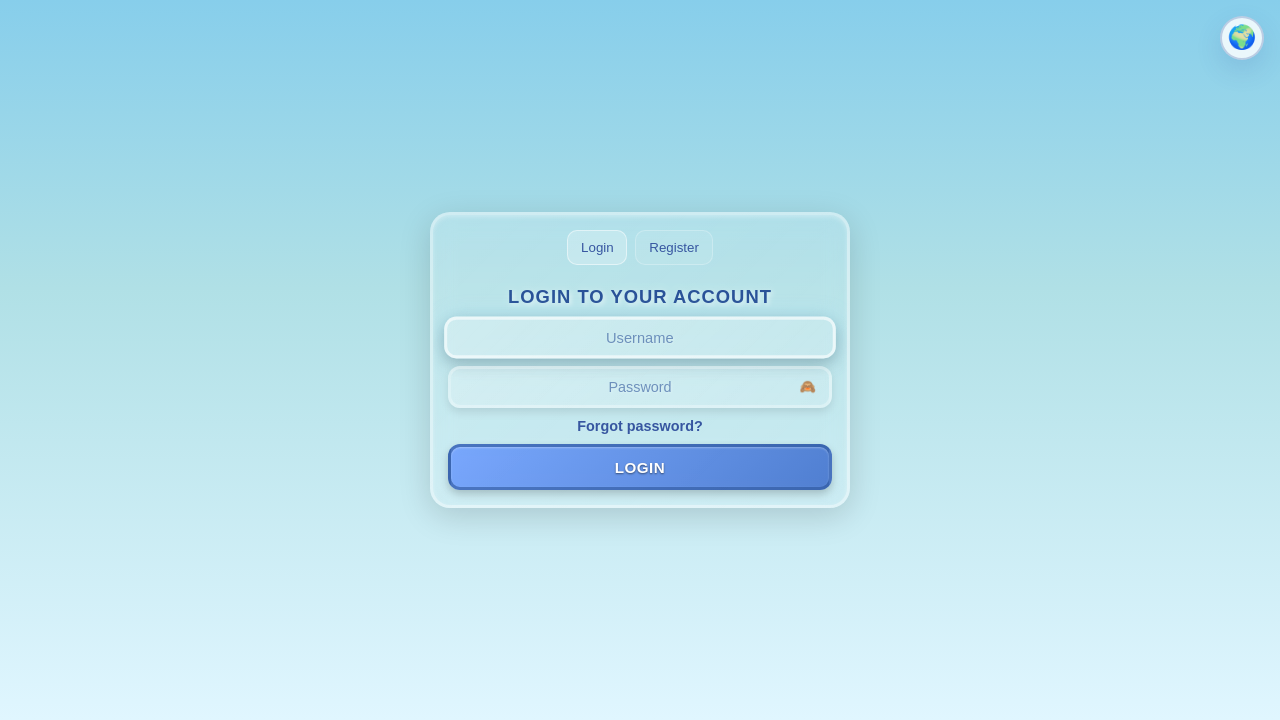
Test case: Index main page › translates the login page when language is changed before signing in
Expected: the heading "Login to Your Account" is shown, [508,286,772,308]
Click the button named "language" at (1242, 38), box [1220,16,1264,60]
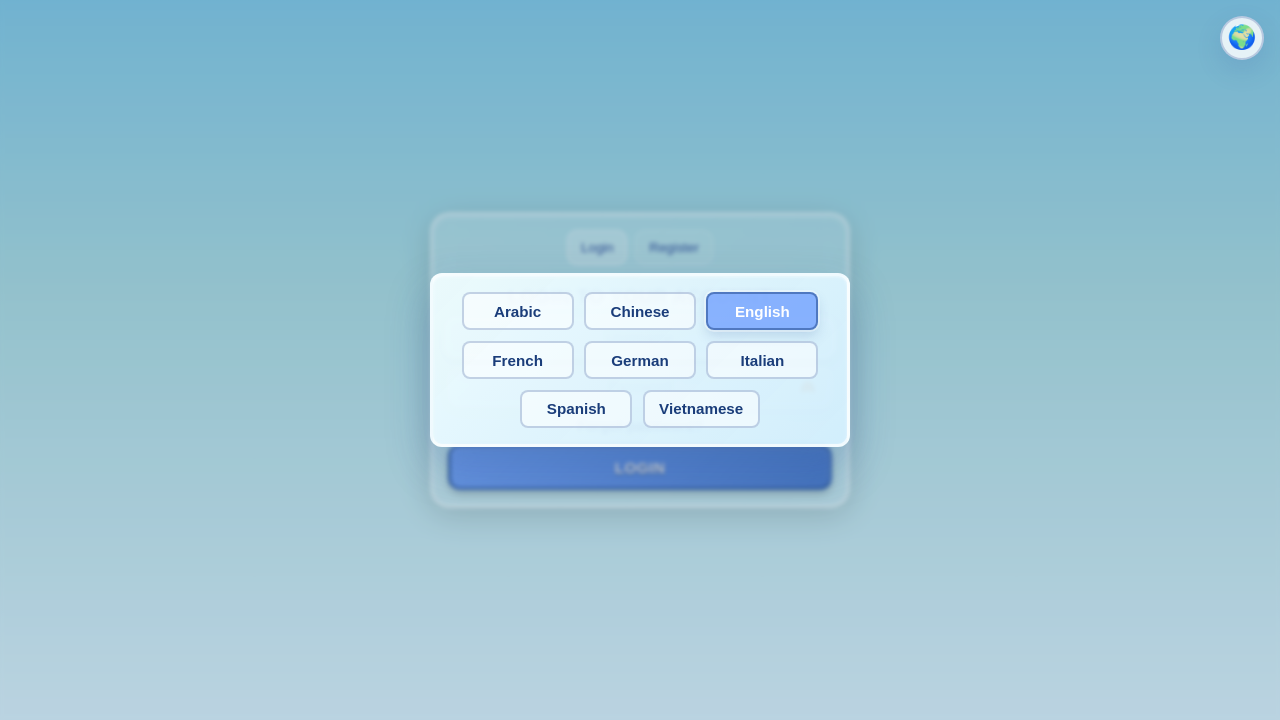
Click the button "French" at (518, 360), box [462,341,574,379]
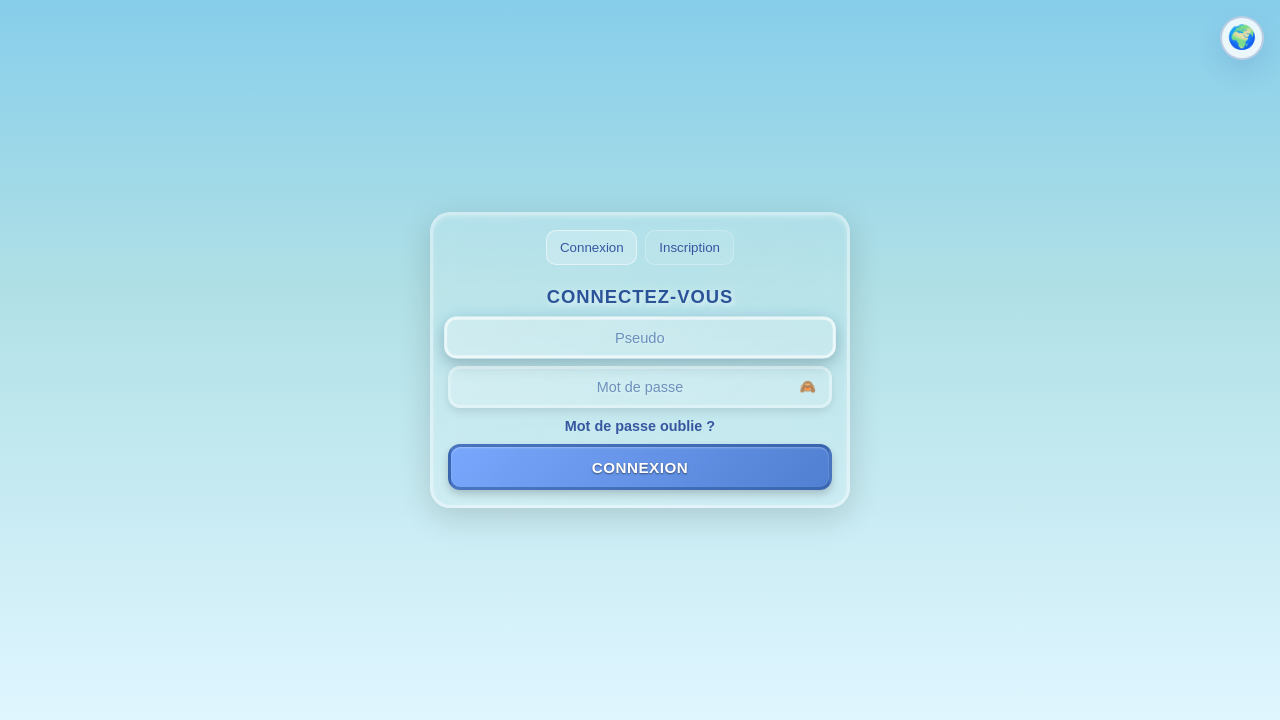
Result: the heading "Connectez-vous" is shown at [547,286,733,308]
Result: the button "Inscription" is shown at [646,230,734,265]
Result: the field with placeholder "Pseudo" is shown at [444,317,836,359]
